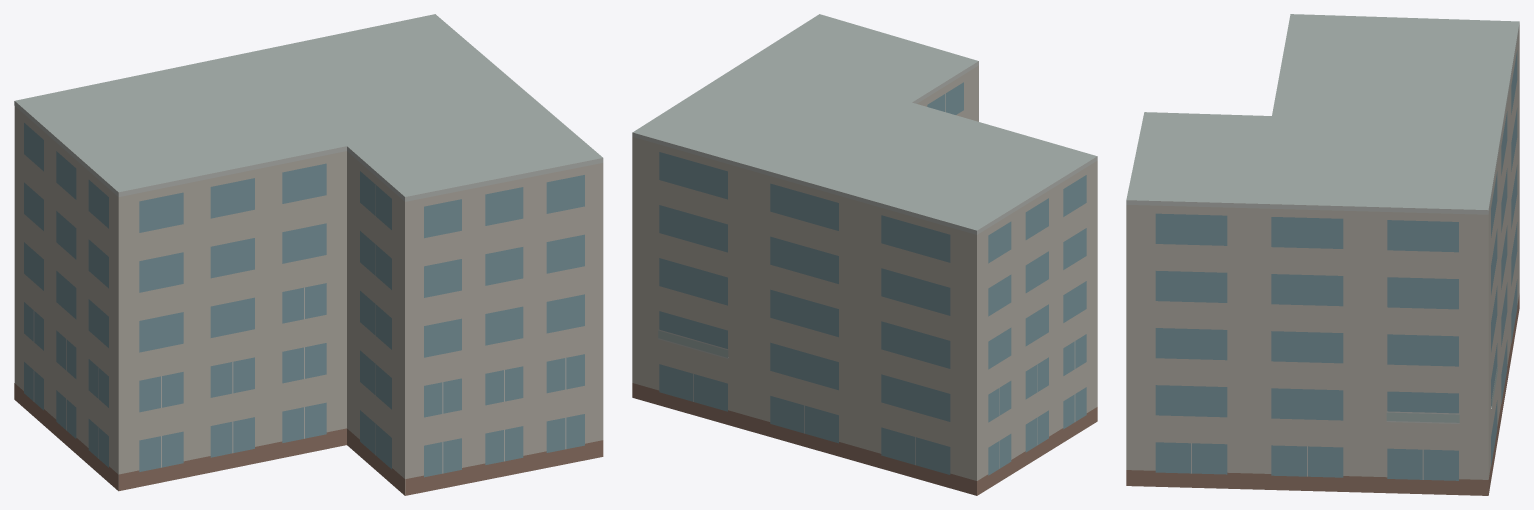
The model's file is survey-upis-32747818.glb.
3 renders of one model, left to right at view 1: azimuth 30°, elevation 25°; view 2: azimuth 150°, elevation 25°; view 3: azimuth 270°, elevation 25°, orthographic. The views are drawn at different scales.
Visible parts, largest first — view 1: survey-upis-32747818.tmp; view 2: survey-upis-32747818.tmp; view 3: survey-upis-32747818.tmp.
Boxes of the visible parts, bbox=[...] form: survey-upis-32747818.tmp: bbox=[14, 14, 603, 495]; survey-upis-32747818.tmp: bbox=[632, 14, 1097, 495]; survey-upis-32747818.tmp: bbox=[1126, 14, 1519, 495].
Bounding box in the file's own units: 22.09 × 15 × 18.73.
